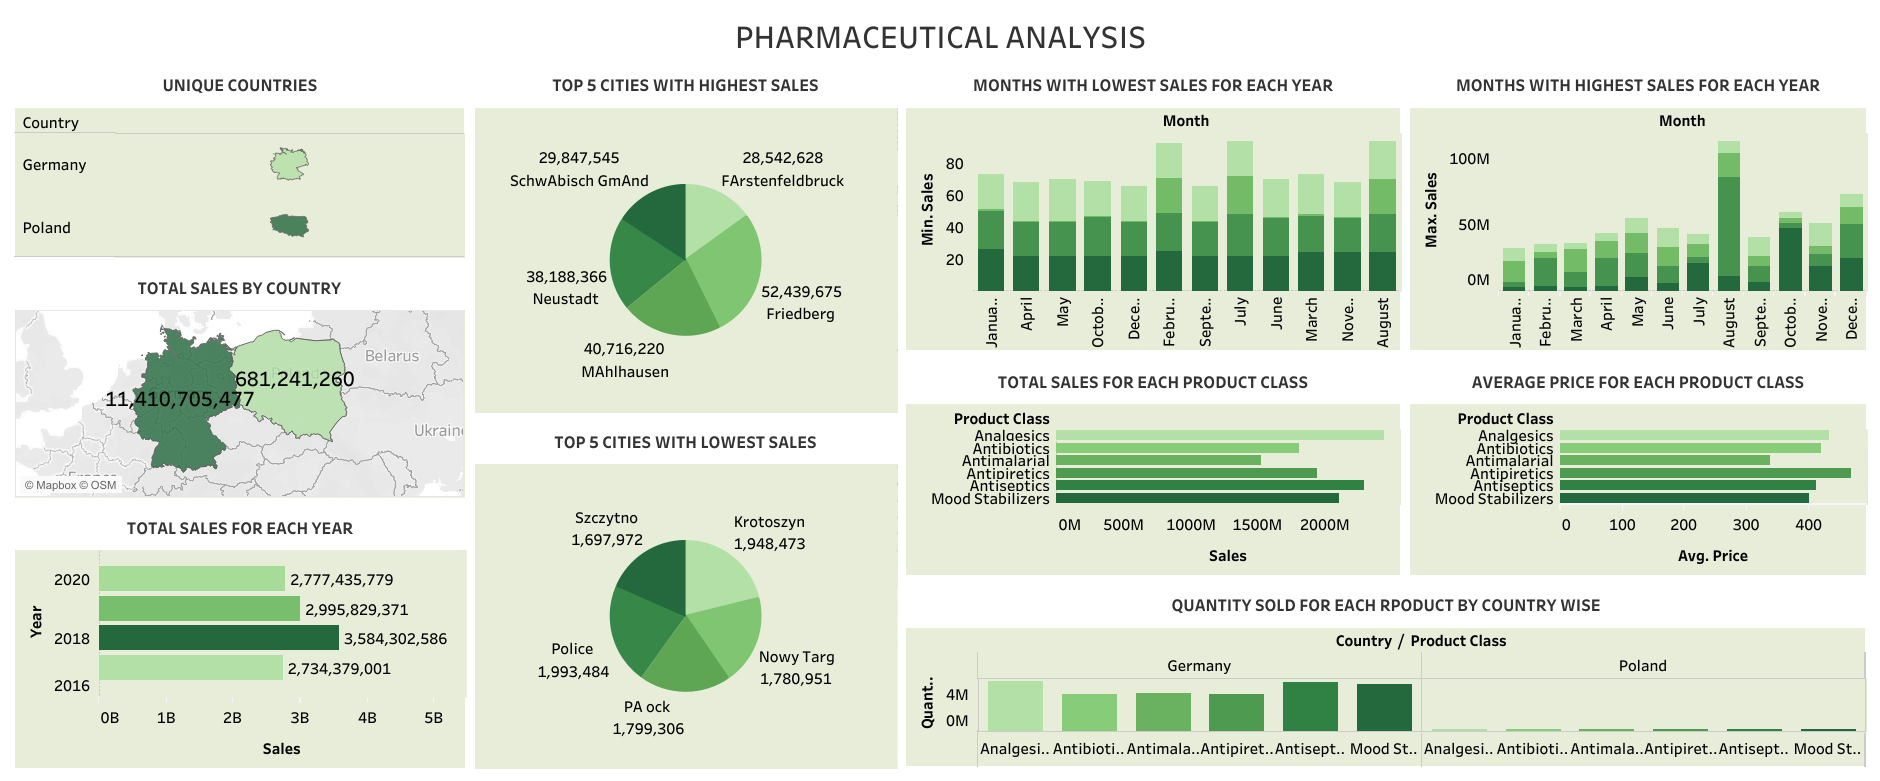

What the dashboard file says about the page in this screenshot:
{"tool":"tableau","page":{"name":"Pharmaceutical Analysis","canvas":[1000,1000],"units":"permille","ordinal":0},"visuals":[{"type":"title","box":[4.8,8.8,990.3,43.9]},{"type":"worksheet","title":"UNIQUE COUNTRIES","mark":"Multipolygon","rows":["Country"],"box":[4.8,52.7,244.6,266.7]},{"type":"worksheet","title":"TOP 5 CITIES WITH HIGHEST SALES","mark":"Pie","box":[249.5,52.7,229.8,468.7]},{"type":"worksheet","title":"MONTHS WITH LOWEST SALES","mark":"Automatic","rows":["Sales"],"cols":["Month"],"box":[479.3,52.7,267.8,390.5]},{"type":"worksheet","title":"MONTHS WITH HIGHEST SALES","mark":"Automatic","rows":["Sales"],"cols":["Month"],"box":[747.1,52.7,248.1,390.5]},{"type":"worksheet","title":"COUNTRY WISE SALES","mark":"Automatic","box":[4.8,319.4,244.6,315.6]},{"type":"worksheet","title":"TOTAL SALES FOR EACH PRODUCT CLASS","mark":"Automatic","rows":["Product Class"],"cols":["Sales"],"box":[479.3,443.2,267.8,294.6]},{"type":"worksheet","title":"AVERAGE PRICE FOR EACH PRDUCT CLASS","mark":"Automatic","rows":["Product Class"],"cols":["Price"],"box":[747.1,443.2,248.1,294.6]},{"type":"worksheet","title":"TOP 5 CITIES WITH LOWEST SALES","mark":"Pie","box":[249.5,521.4,229.8,469.8]},{"type":"worksheet","title":"YEAR WISE SALES","mark":"Bar","rows":["Year"],"cols":["Sales"],"box":[4.8,635,244.6,356.2]},{"type":"worksheet","title":"QUANTITY SOLD","mark":"Automatic","rows":["Quantity"],"cols":["Country","Product Class"],"box":[479.3,737.8,515.9,253.4]}]}

Visuals, with their boxes on the dashboard's canvas, which has no fixed pixel size, in thousandths of its width and height (x1, y1, x2, y2). These are canvas units, not pixel positions in the 1880x781 screenshot, which may show the page scaled, cropped or inside an application window:
title: 5 9 995 53
"UNIQUE COUNTRIES" worksheet (Multipolygon marks): 5 53 249 319
"TOP 5 CITIES WITH HIGHEST SALES" worksheet (Pie marks): 250 53 479 521
"MONTHS WITH LOWEST SALES" worksheet: 479 53 747 443
"MONTHS WITH HIGHEST SALES" worksheet: 747 53 995 443
"COUNTRY WISE SALES" worksheet: 5 319 249 635
"TOTAL SALES FOR EACH PRODUCT CLASS" worksheet: 479 443 747 738
"AVERAGE PRICE FOR EACH PRDUCT CLASS" worksheet: 747 443 995 738
"TOP 5 CITIES WITH LOWEST SALES" worksheet (Pie marks): 250 521 479 991
"YEAR WISE SALES" worksheet (Bar marks): 5 635 249 991
"QUANTITY SOLD" worksheet: 479 738 995 991
